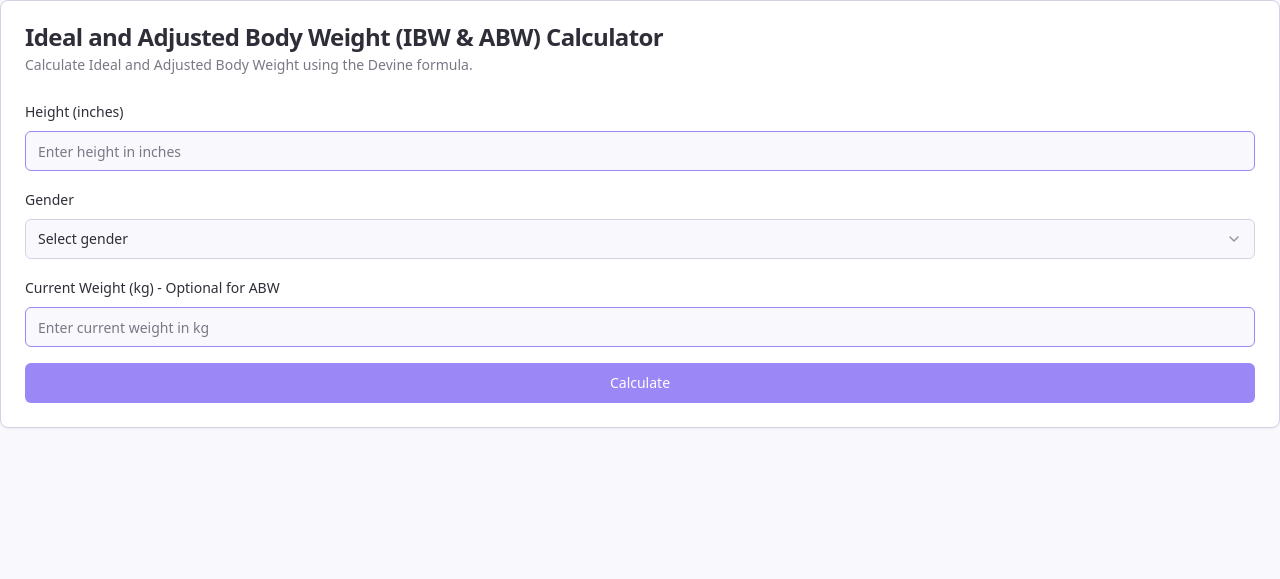
Test: IBWCalculator › renders and calculates IBW and ABW
Type "170" into the number field labelled "Height (inches)" at (640, 151), box [25,131,1255,171]
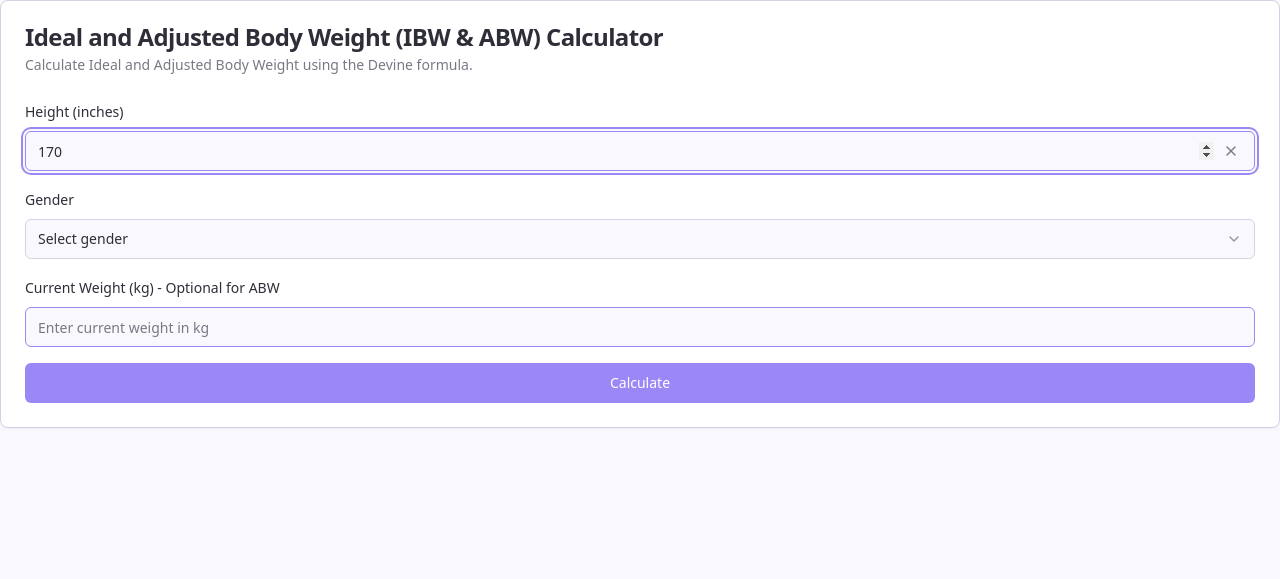
Type "70" into the number field labelled "Current Weight (kg) - Optional for ABW" at (640, 327), box [25,307,1255,347]
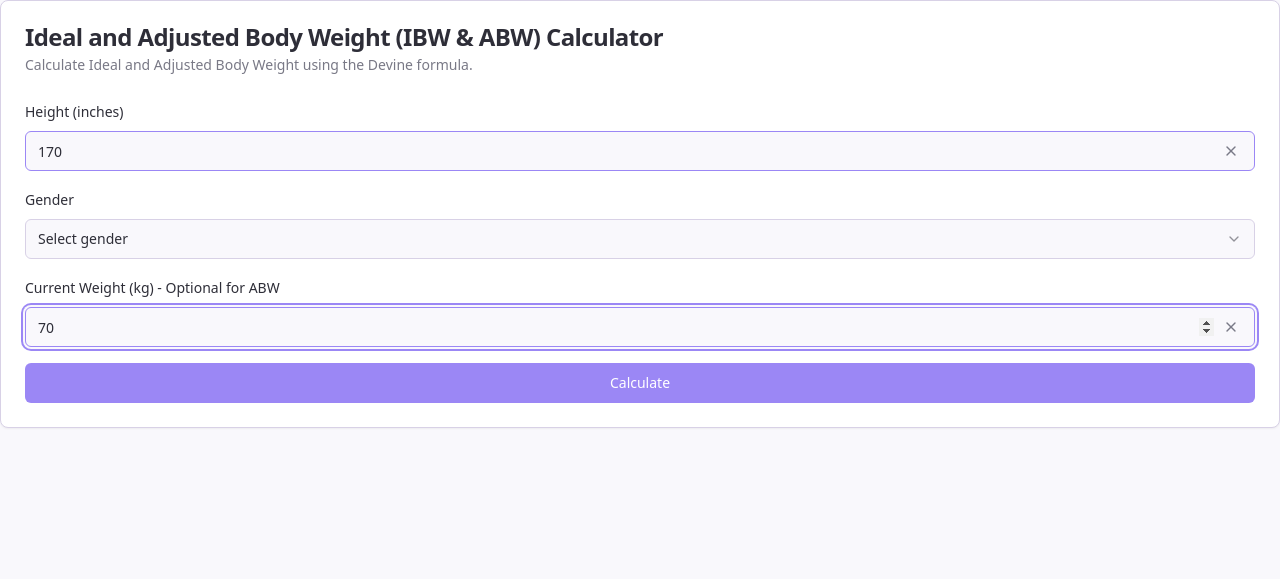
Click the button "Calculate" at (640, 383), box [25,363,1255,403]
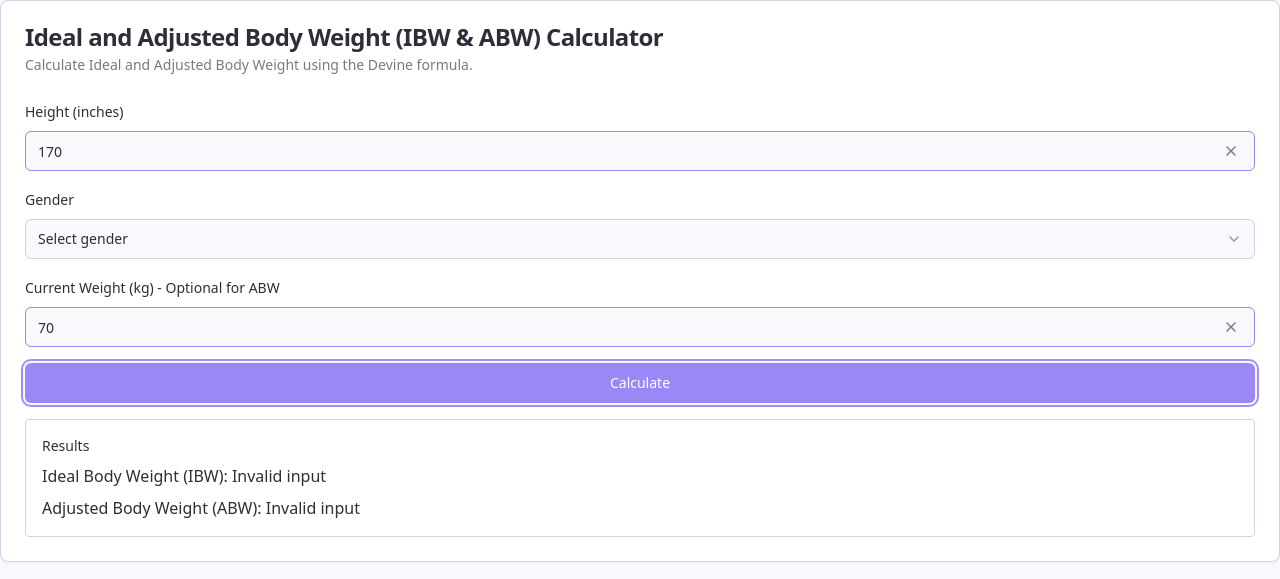
Expected: the heading "Ideal and Adjusted Body Weight (IBW & ABW) Calculator" is shown, [25,20,663,53]
Expected: the heading "Results" is shown, [42,436,89,455]
Expected: the text "Ideal Body Weight (IBW): Invalid input" is shown, [42,465,326,487]
